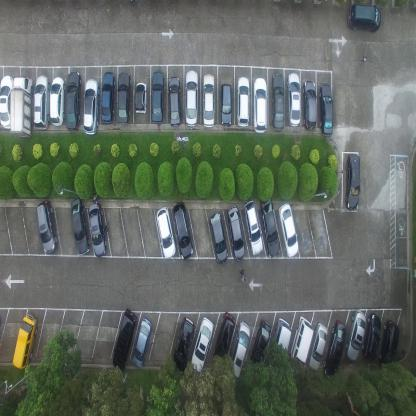car: (111, 307, 137, 371), (11, 313, 39, 371), (287, 316, 314, 374), (10, 74, 34, 139), (267, 317, 292, 374), (190, 316, 214, 374), (324, 320, 347, 379), (259, 195, 280, 259), (212, 311, 236, 367), (69, 196, 91, 257), (172, 316, 195, 374), (171, 200, 193, 259), (229, 322, 251, 378), (278, 202, 299, 260), (249, 318, 272, 370), (36, 200, 58, 254), (344, 309, 366, 362), (242, 199, 262, 257), (155, 206, 176, 259), (225, 204, 244, 262), (346, 2, 380, 34), (207, 210, 227, 264), (132, 316, 152, 368), (378, 320, 400, 366), (88, 201, 106, 257), (83, 78, 100, 136), (362, 313, 382, 362), (66, 70, 82, 130), (308, 323, 328, 371), (33, 73, 50, 129), (116, 70, 132, 126), (252, 76, 267, 134), (0, 74, 15, 131), (49, 76, 66, 126), (100, 71, 116, 124), (184, 68, 198, 127), (271, 72, 285, 131), (346, 152, 360, 211), (150, 70, 165, 124), (286, 71, 300, 128), (200, 72, 214, 128), (303, 78, 317, 132), (319, 82, 333, 136), (236, 76, 250, 128), (168, 75, 182, 127), (219, 82, 233, 126), (134, 80, 148, 115)
